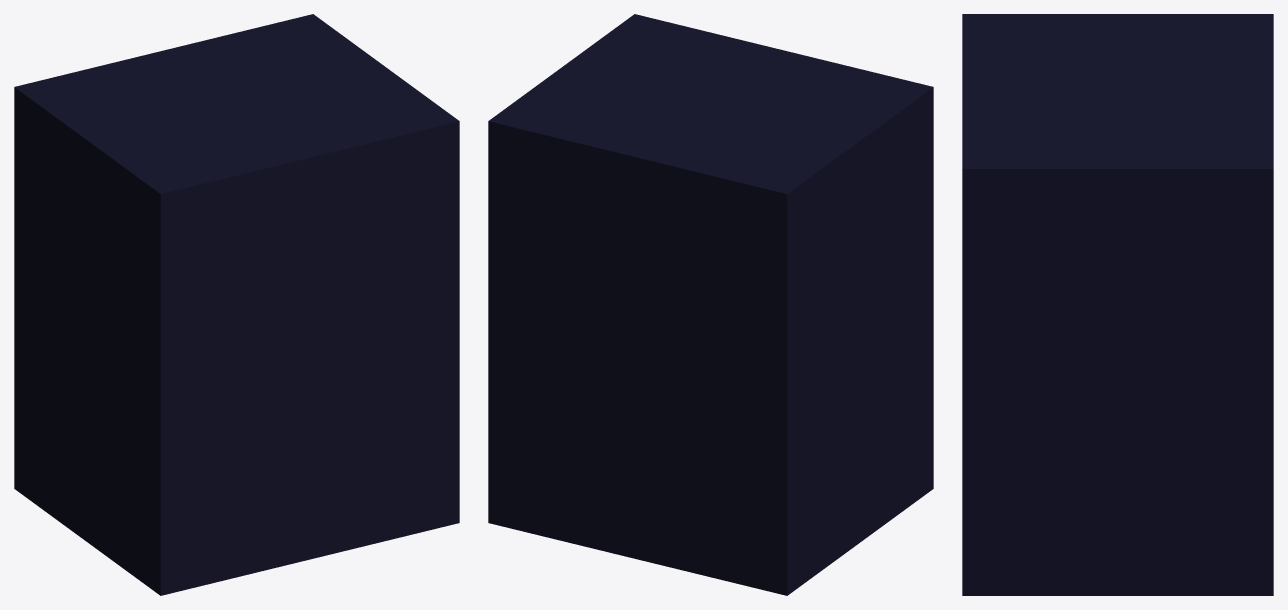
The model's file is ovfvgnsort.glb.
The picture shows the model from 3 angles, left to right: view 1: azimuth 30°, elevation 25°; view 2: azimuth 150°, elevation 25°; view 3: azimuth 270°, elevation 25°; orthographic projection. The views are drawn at different scales.
Visible parts, largest first — view 1: Cube156; view 2: Cube156; view 3: Cube156.
Boxes of the visible parts, x1,y1,x2,y2 form: Cube156: (14,14,459,595); Cube156: (488,14,933,595); Cube156: (962,14,1273,595).
Size of the model in its own units: 0.732 by 0.94 by 0.621.
